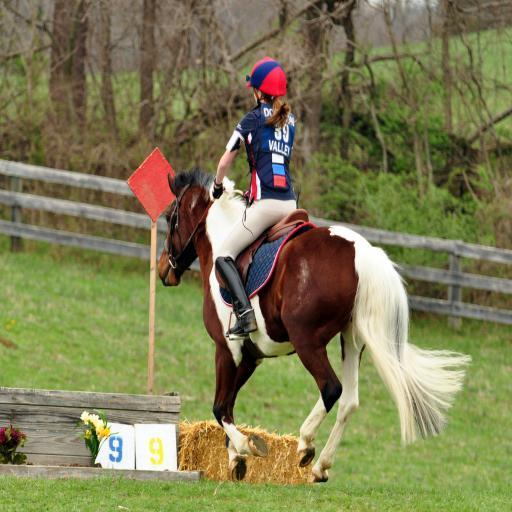horse: (155, 168, 474, 484)
